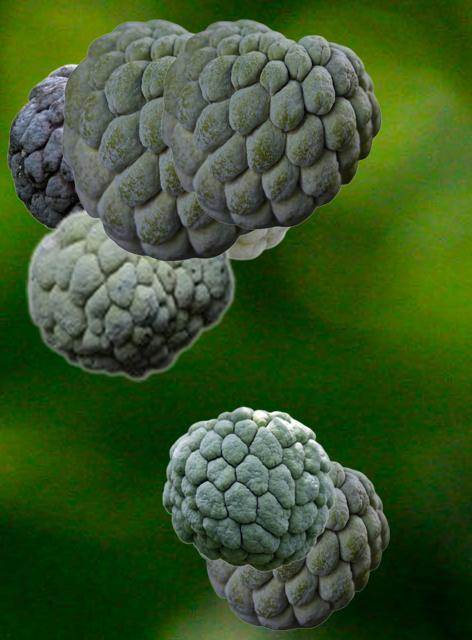atis: (61, 19, 257, 260), (161, 19, 380, 228), (25, 207, 235, 381), (199, 460, 388, 629), (162, 406, 334, 571), (7, 61, 82, 229), (231, 228, 290, 259)
